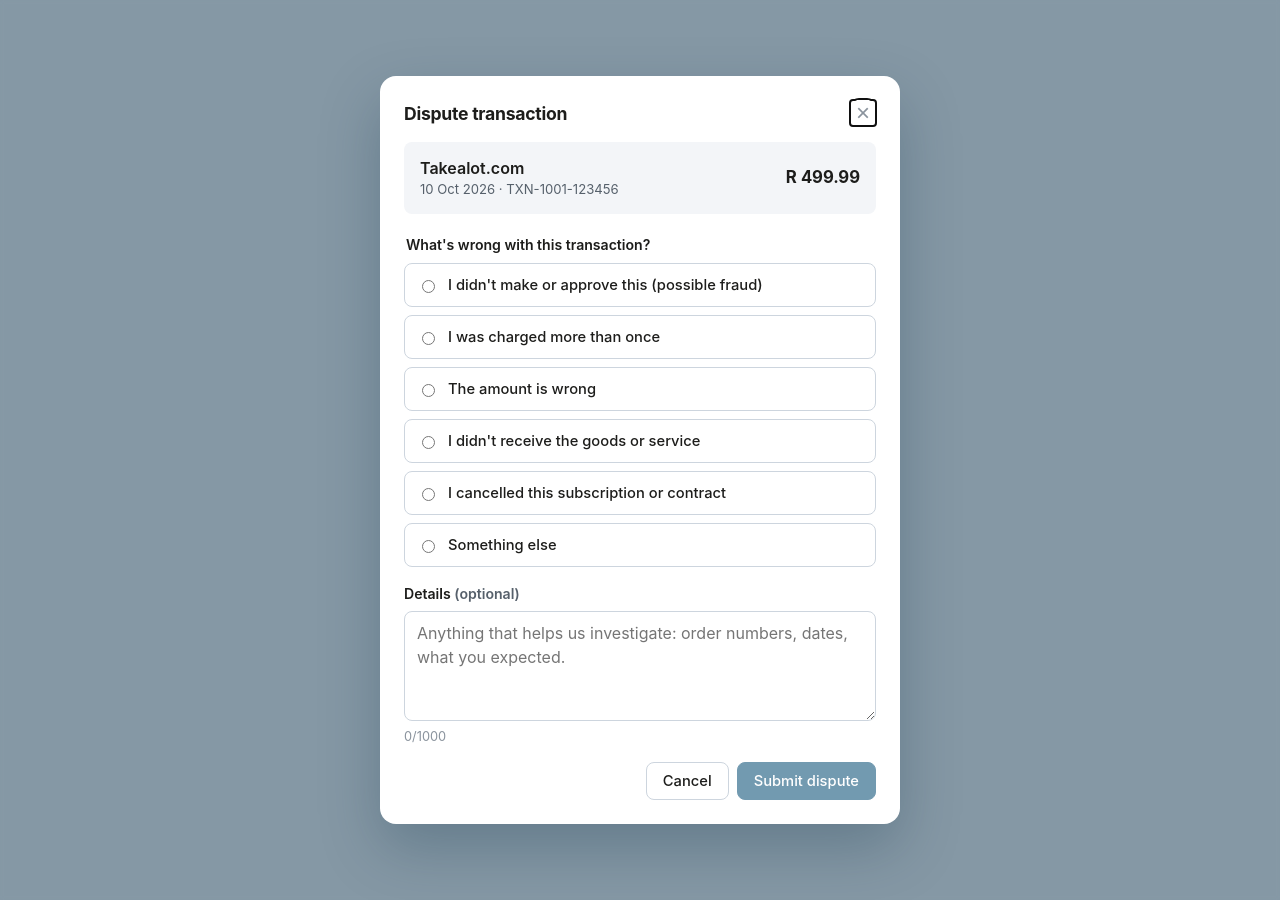
Test: RaiseDisputeDialog › requires a reason, and a description when the reason is Other
expect the submit button is disabled: met, box [737, 762, 876, 800]
Click the radio button labelled "Something else" at (428, 547), box [422, 540, 435, 553]
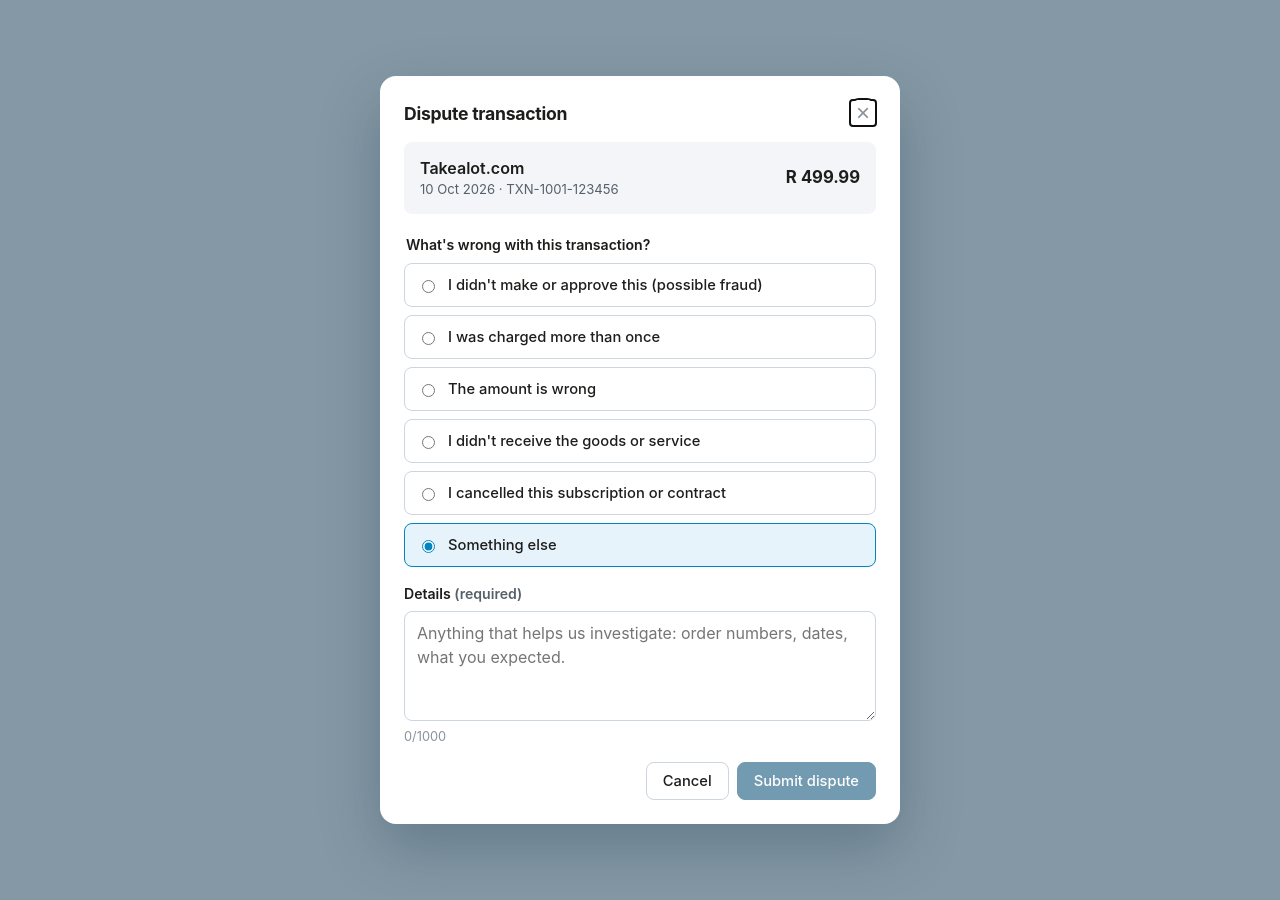
expect the submit button is disabled: met, box [737, 762, 876, 800]
Replace the text in the text box labelled "Details (required)" with "The merchant refunded me but the charge is still here." at (640, 666), box [404, 611, 876, 721]
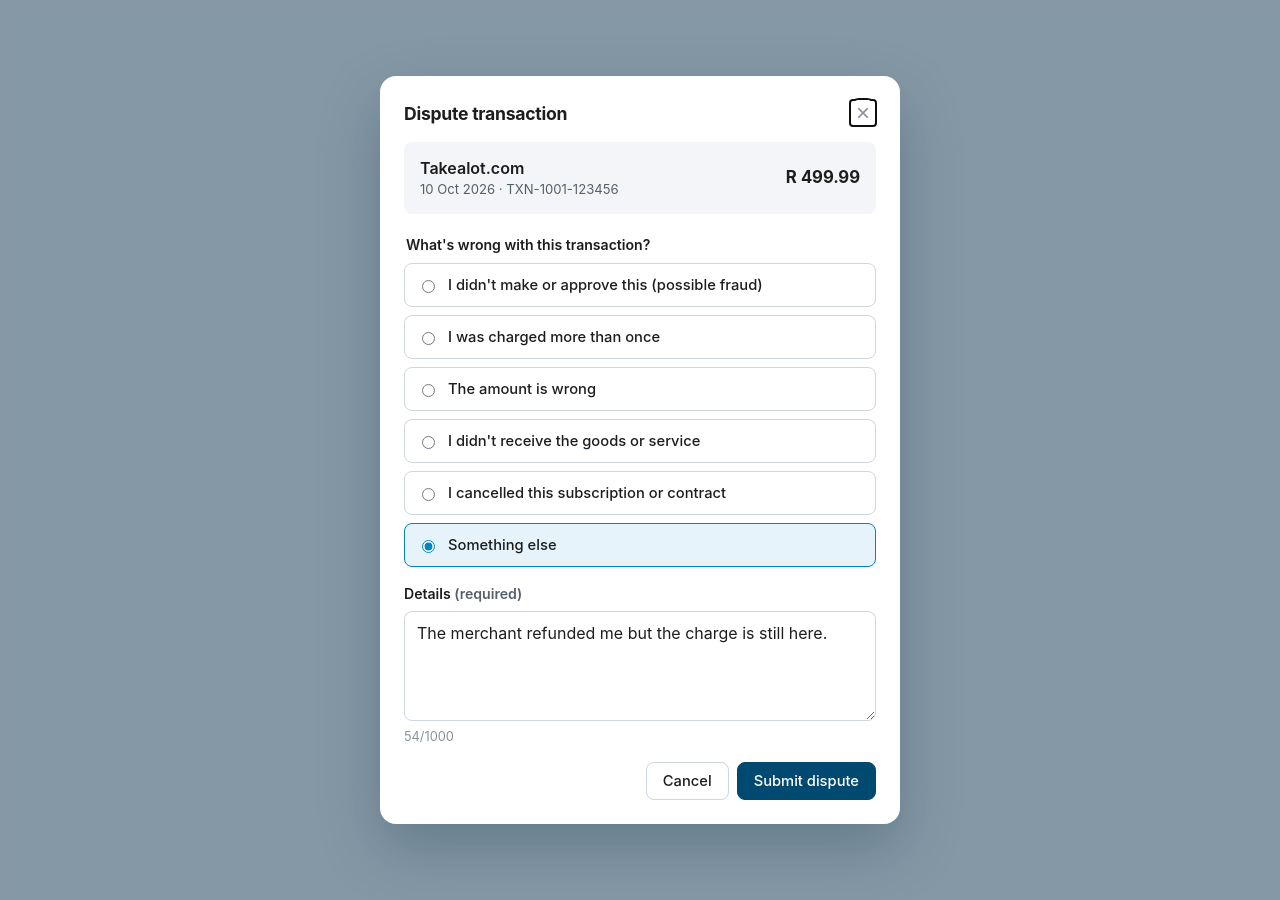
expect the submit button is enabled: met, box [737, 762, 876, 800]
